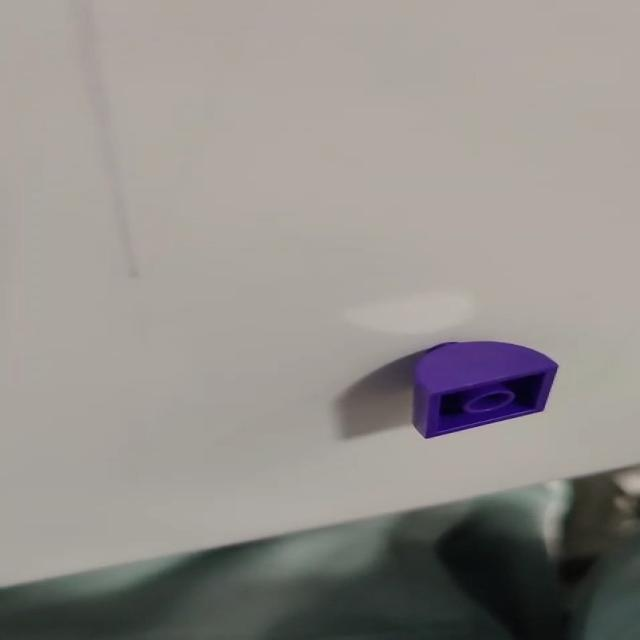H2x2x1: (402, 338, 554, 435)
